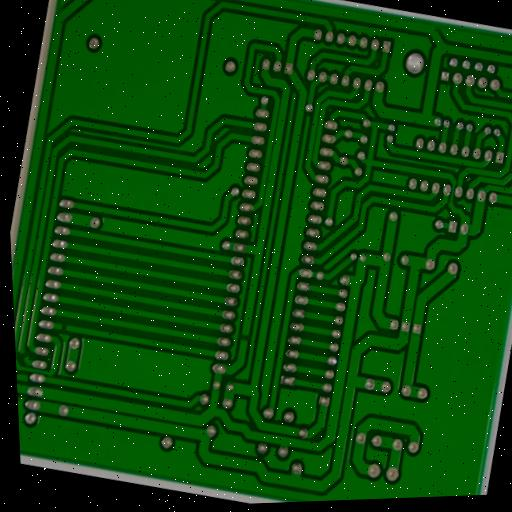open_circuit: (55, 319, 69, 336), (17, 348, 31, 362), (237, 331, 250, 343)
